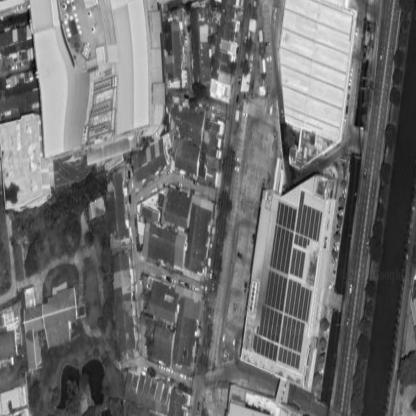solar-pv-panel: (252, 190, 323, 370)
